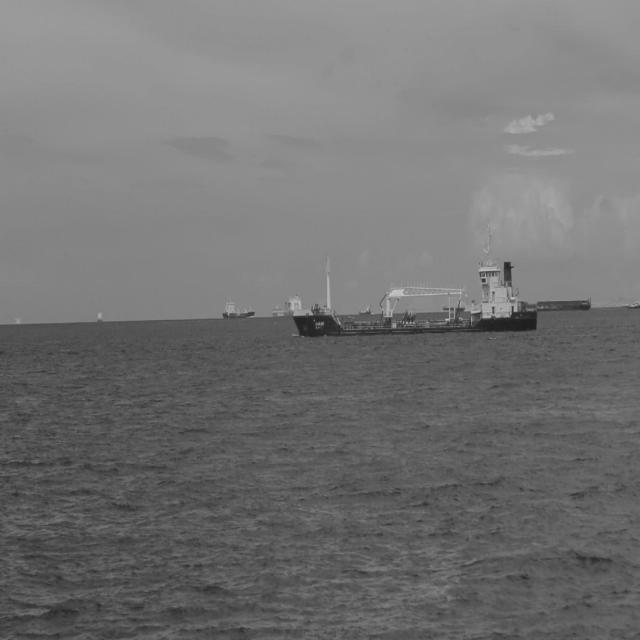ship: (292, 210, 542, 344), (270, 284, 307, 325), (219, 288, 258, 325), (536, 296, 594, 314)
